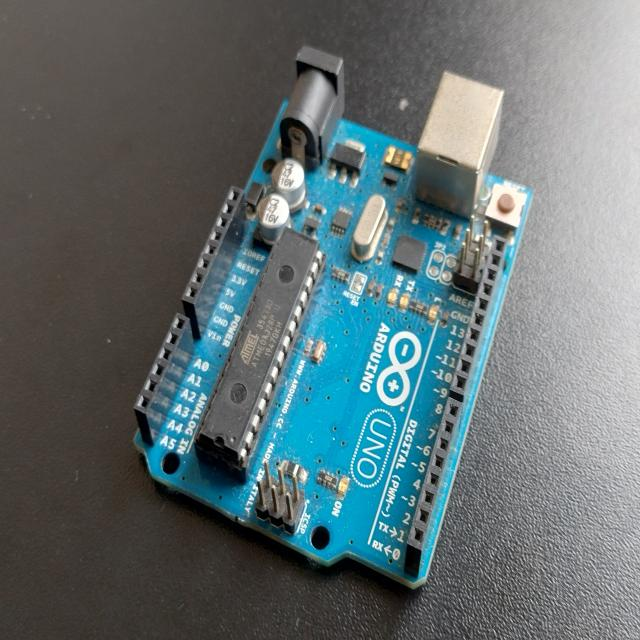arduino: (136, 38, 536, 607)
